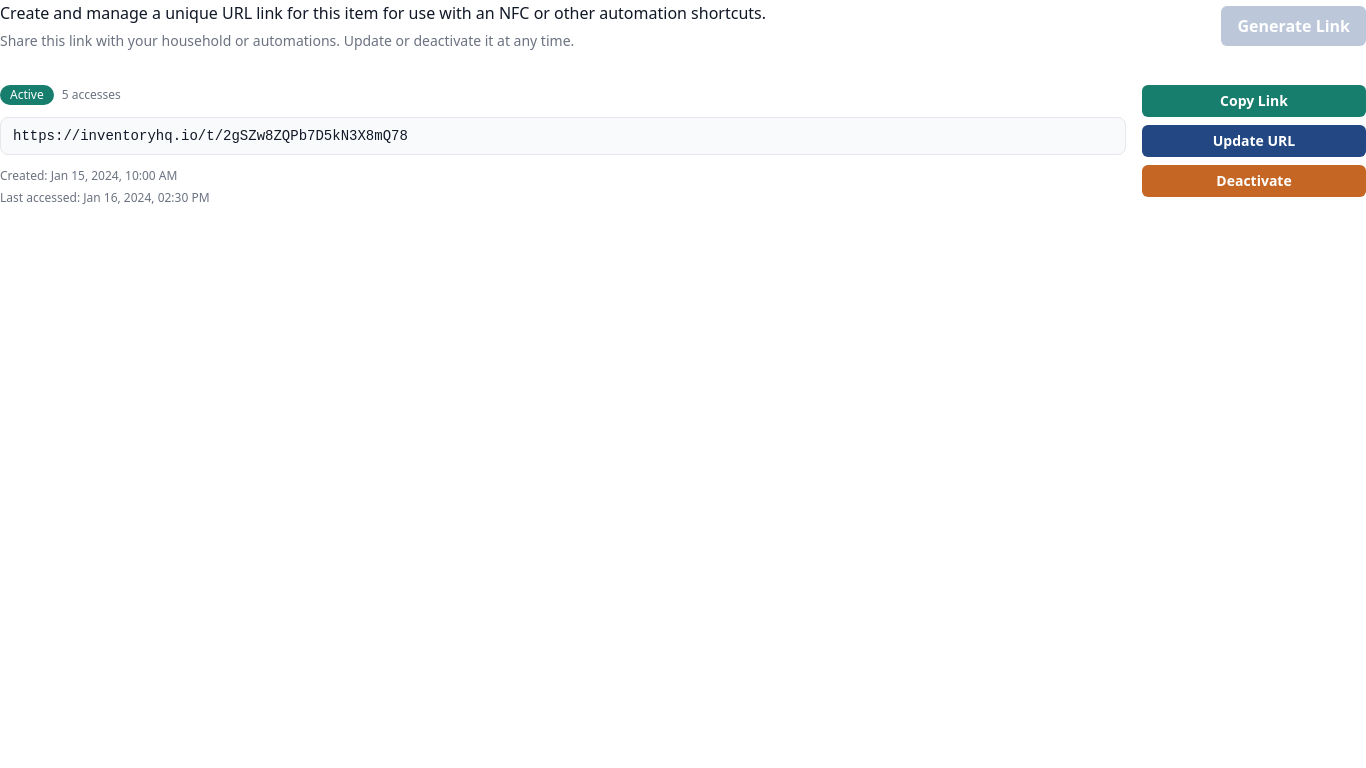
Scenario: NFCUrlManager Component › Rotate URL (T046) › should rotate URL when confirmed
Expected: the text "Active" is shown, [0,85,54,105]
Click the button "Update URL" at (1254, 141), box [1142,125,1365,157]
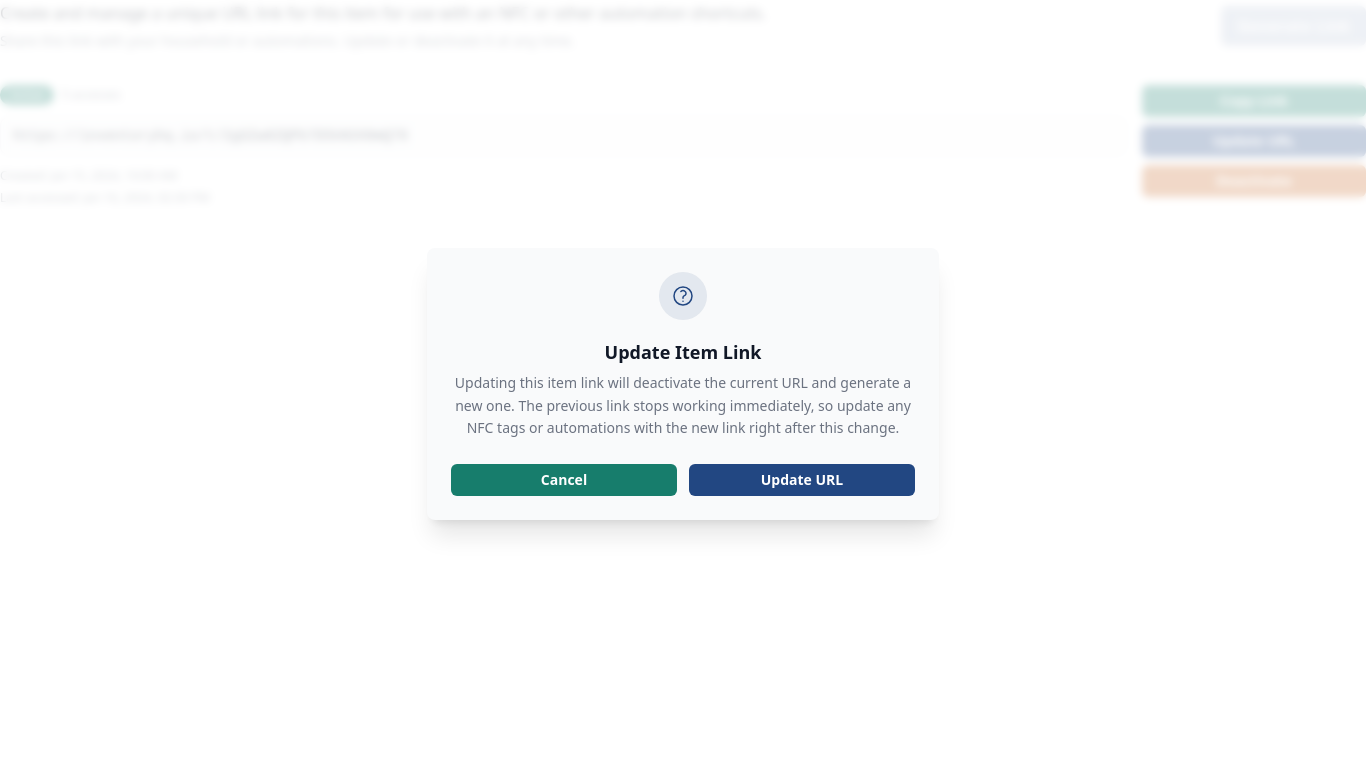
Expected: the heading "Update Item Link" is shown, [605,340,762,364]
Click the button "Update URL" at (802, 480), box [689,464,915,496]
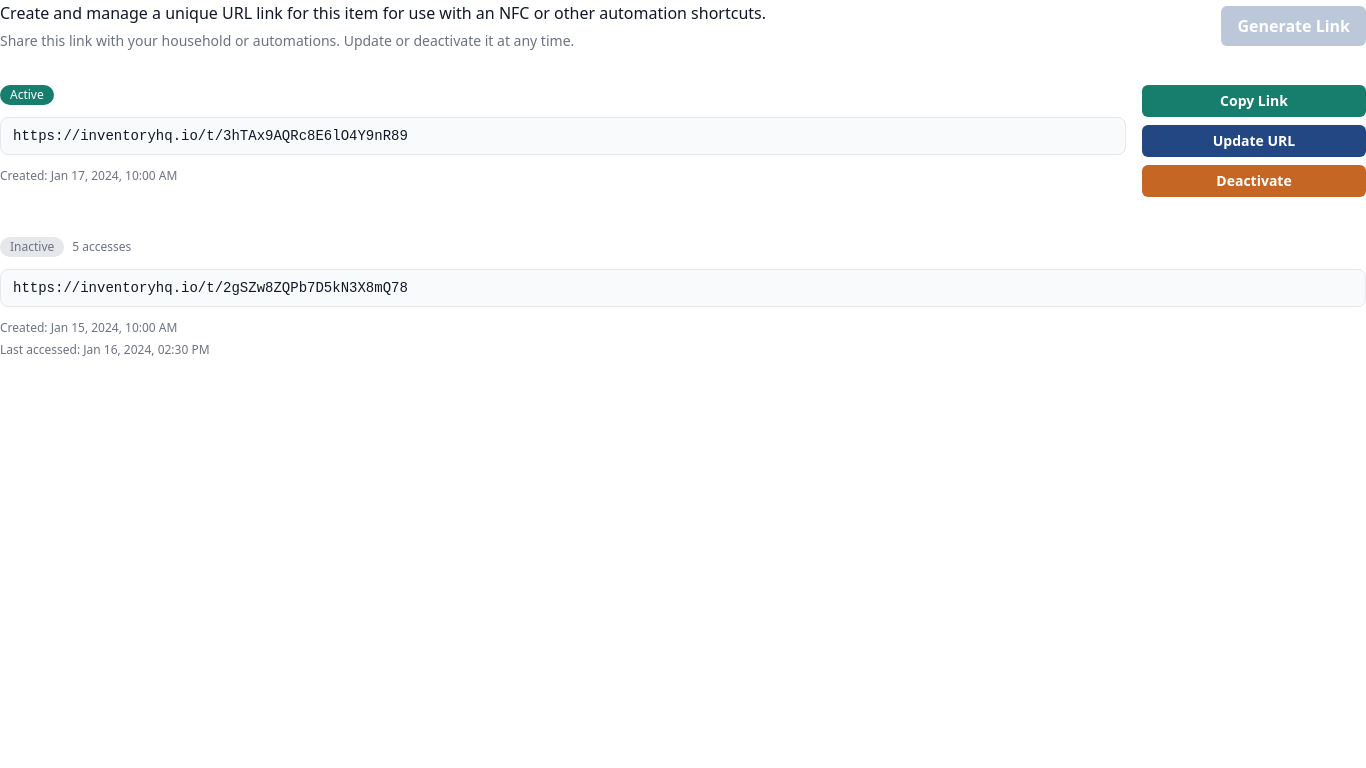
Expected: the text "https://inventoryhq.io/t/3hTAx9AQRc8E6lO4Y9nR89" is shown, [0,117,1126,155]
Expected: the text "Active" is shown 2 times, [0,85,54,105]; [0,237,64,257]
